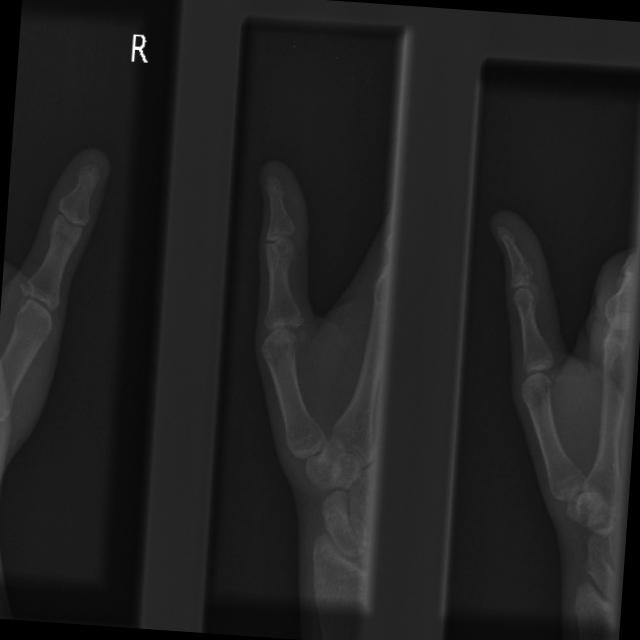fingers positive: (267, 221, 302, 275), (8, 262, 41, 310)
